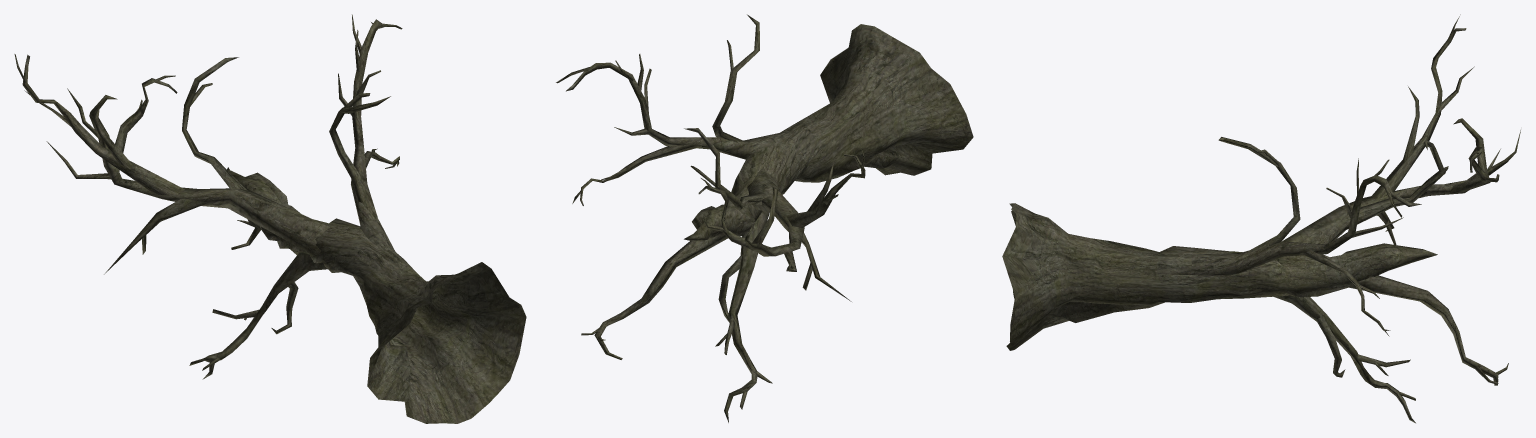
The model's file is TI_Old_Tree_03_LOD_01.fbx.
3 renders of one model, left to right at view 1: azimuth 30°, elevation 25°; view 2: azimuth 150°, elevation 25°; view 3: azimuth 270°, elevation 25°, orthographic. The views are drawn at different scales.
Visible parts, largest first — view 1: TI_Old_Tree_03_LOD_01; view 2: TI_Old_Tree_03_LOD_01; view 3: TI_Old_Tree_03_LOD_01.
Part boxes in pixels (x1,y1,x2,y2): TI_Old_Tree_03_LOD_01: [14, 14, 526, 423]; TI_Old_Tree_03_LOD_01: [556, 14, 973, 422]; TI_Old_Tree_03_LOD_01: [1002, 14, 1520, 423].
Bounding box in the file's own units: 8.48 × 7.92 × 11.18.
